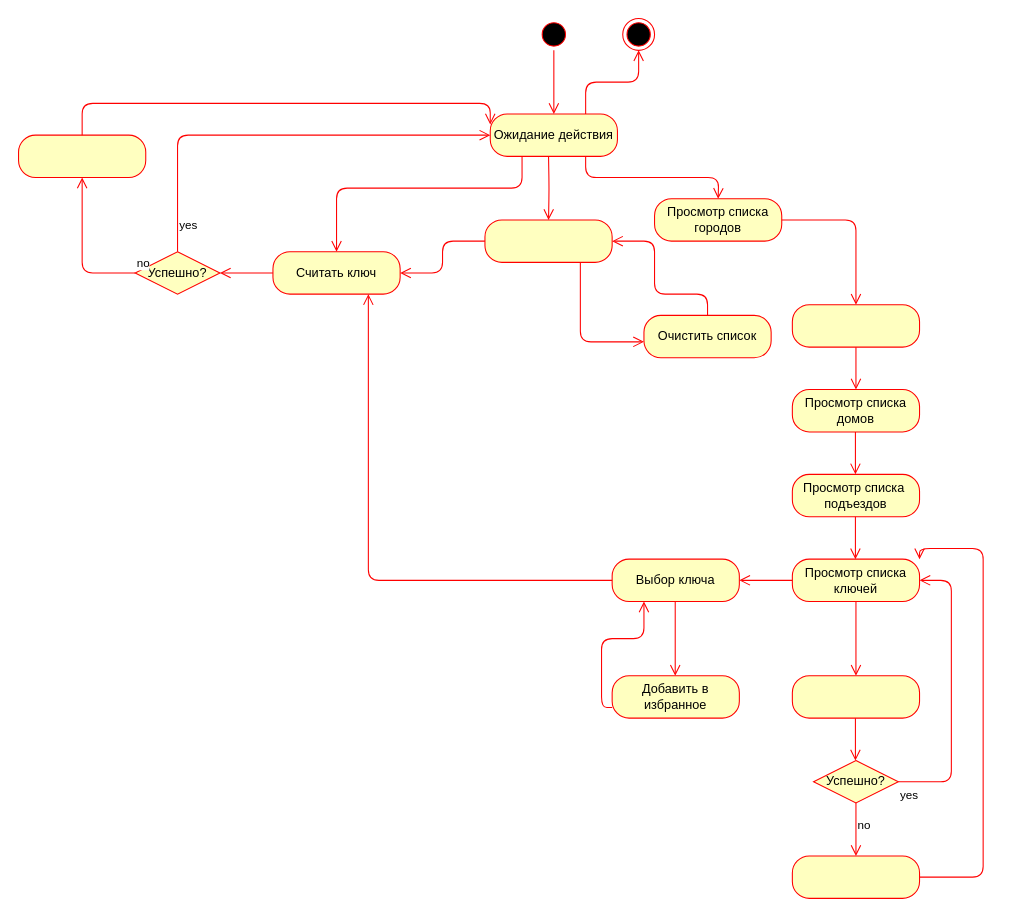
This 1012x917 diagram has some shape labels left out. The centre of each missing label's shape, as x and y in pixels:
"Выдать ошибку" belongs at pixel 81 156.
"Добавить ключ в базу данных" belongs at pixel 855 696.
"Ошибка" belongs at pixel 855 876.
"Просмотр списка избранных ключей" belongs at pixel 548 240.
"Просмотр списка улиц" belongs at pixel 855 325.
